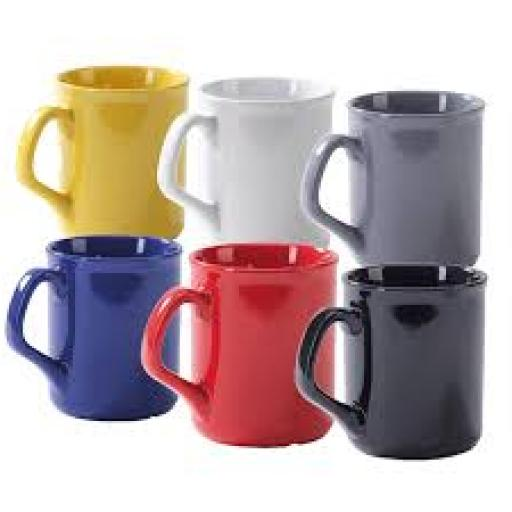red mug: (143, 243, 337, 446)
